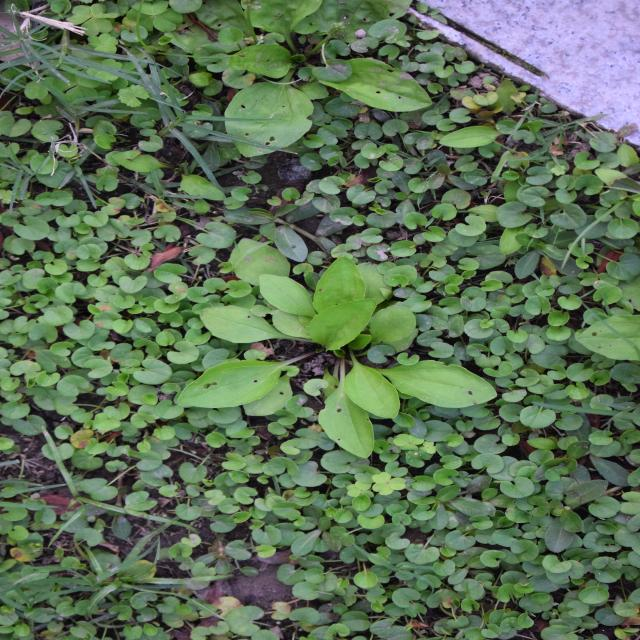plantain: (193, 187, 395, 463)
